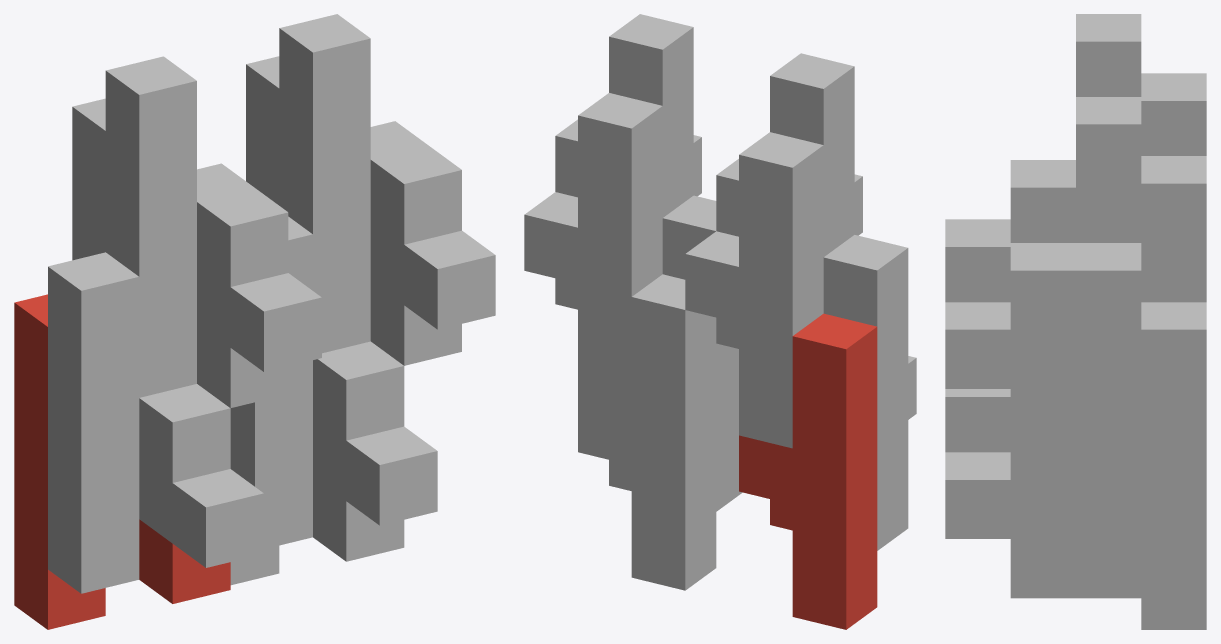
Rendered from tiling.obj.
3 views of the same model, side by side, from view 1: azimuth 30°, elevation 25°; view 2: azimuth 150°, elevation 25°; view 3: azimuth 270°, elevation 25° (orthographic). The views are drawn at different scales.
Parts seen in each view (by area): view 1: copy_1_domain_2, copy_1_domain_4, copy_1_domain_8, copy_1_domain_6, copy_1_domain_1, copy_1_domain_3, copy_1_domain_7, copy_1_domain_5; view 2: copy_1_domain_1, copy_1_domain_5, copy_1_domain_3, copy_1_domain_7, copy_1_domain_2, copy_1_domain_4, copy_1_domain_8, copy_1_domain_6; view 3: copy_1_domain_7, copy_1_domain_8, copy_1_domain_5, copy_1_domain_4, copy_1_domain_6, copy_1_domain_3, copy_1_domain_2.
Boxes of the visible parts, left/top/right/bottom form: copy_1_domain_2: left=48, top=252, right=263, bottom=593; copy_1_domain_4: left=105, top=56, right=321, bottom=397; copy_1_domain_8: left=279, top=14, right=495, bottom=353; copy_1_domain_6: left=230, top=216, right=437, bottom=549; copy_1_domain_1: left=14, top=294, right=230, bottom=629; copy_1_domain_3: left=72, top=98, right=288, bottom=408; copy_1_domain_7: left=246, top=56, right=461, bottom=365; copy_1_domain_5: left=230, top=477, right=404, bottom=585; copy_1_domain_1: left=739, top=313, right=877, bottom=629; copy_1_domain_5: left=578, top=274, right=716, bottom=590; copy_1_domain_3: left=685, top=132, right=823, bottom=448; copy_1_domain_7: left=524, top=93, right=662, bottom=408; copy_1_domain_2: left=823, top=235, right=916, bottom=550; copy_1_domain_4: left=716, top=53, right=862, bottom=256; copy_1_domain_8: left=555, top=14, right=701, bottom=217; copy_1_domain_6: left=662, top=195, right=742, bottom=511; copy_1_domain_7: left=1010, top=156, right=1206, bottom=479; copy_1_domain_8: left=945, top=97, right=1141, bottom=388; copy_1_domain_5: left=1010, top=480, right=1206, bottom=629; copy_1_domain_4: left=945, top=14, right=1141, bottom=302; copy_1_domain_6: left=945, top=448, right=1141, bottom=538; copy_1_domain_3: left=1141, top=73, right=1206, bottom=155; copy_1_domain_2: left=945, top=389, right=1010, bottom=452.
Bounding box in the file's own units: 6 × 9 × 4.
